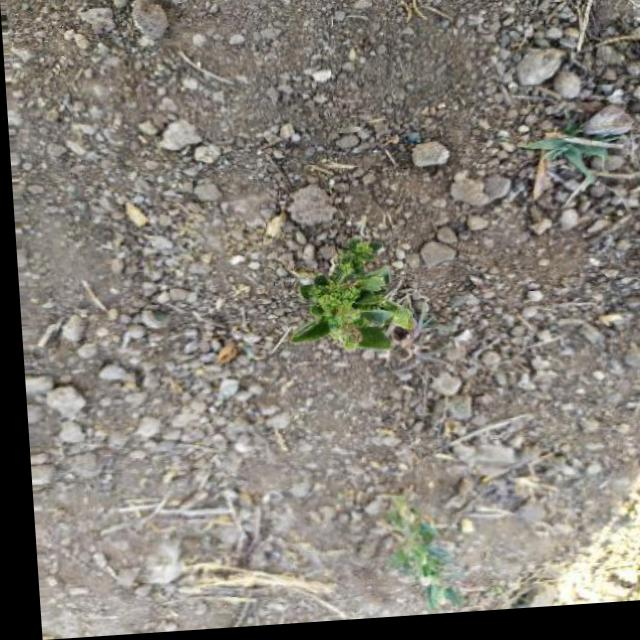crop: (281, 231, 427, 378)
